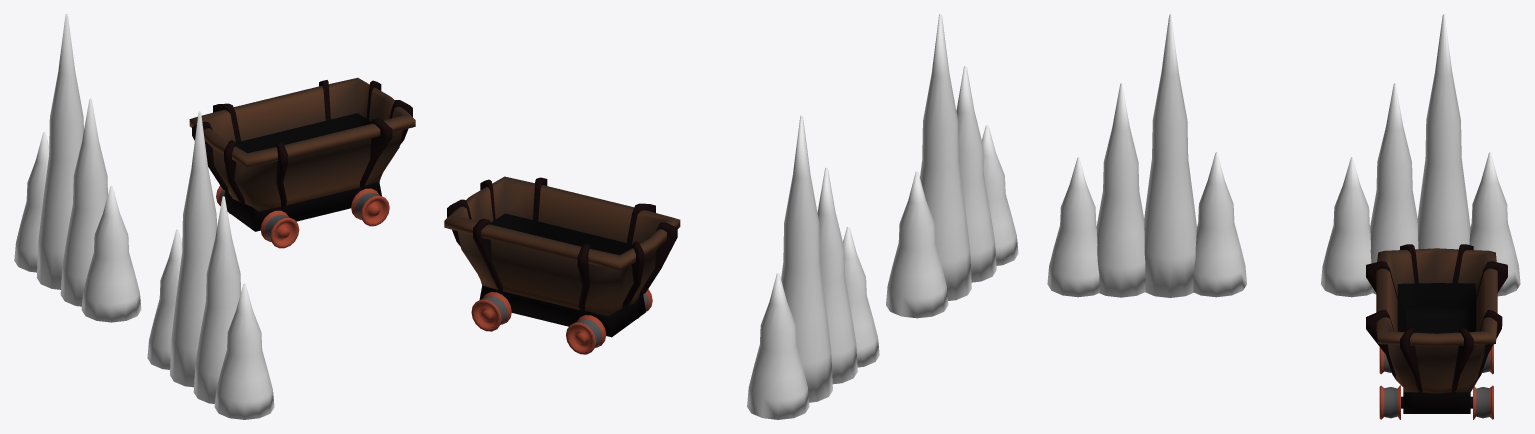
The model's file is Parte 1 obstáculos 2.fbx.
3 views of the same model, side by side, from view 1: azimuth 30°, elevation 25°; view 2: azimuth 150°, elevation 25°; view 3: azimuth 270°, elevation 25° (orthographic). The views are drawn at different scales.
Parts seen in each view (by area): view 1: ESTALACTITA BUENA.001, ESTALACTITA BUENA.003, MineCart.014, MineCart.015, MineCart.013, MineCart.008, MineCart.016; view 2: ESTALACTITA BUENA.003, ESTALACTITA BUENA.001, MineCart.014, MineCart.015, MineCart.013, MineCart.008, MineCart.016; view 3: ESTALACTITA BUENA.001, ESTALACTITA BUENA.003, MineCart.014, MineCart.016, MineCart.015, MineCart.013, MineCart.008.
Part boxes in pixels (box(x1,y1,x2,y2)): ESTALACTITA BUENA.001: box(147, 111, 274, 419); ESTALACTITA BUENA.003: box(14, 14, 141, 322); MineCart.014: box(189, 77, 415, 211); MineCart.015: box(192, 80, 412, 206); MineCart.013: box(216, 185, 389, 248); MineCart.008: box(224, 182, 381, 231); MineCart.016: box(235, 113, 370, 153); ESTALACTITA BUENA.003: box(747, 115, 879, 419); ESTALACTITA BUENA.001: box(886, 14, 1018, 318); MineCart.014: box(444, 176, 680, 316); MineCart.015: box(447, 177, 677, 310); MineCart.013: box(471, 289, 652, 354); MineCart.008: box(479, 286, 645, 337); MineCart.016: box(491, 213, 632, 255); ESTALACTITA BUENA.001: box(1047, 14, 1246, 297); ESTALACTITA BUENA.003: box(1321, 14, 1520, 297); MineCart.014: box(1376, 248, 1497, 393); MineCart.016: box(1397, 283, 1476, 333); MineCart.015: box(1366, 244, 1507, 392); MineCart.013: box(1379, 344, 1493, 419); MineCart.008: box(1401, 392, 1472, 413).
Bounding box in the file's own units: 634 × 454 × 719.
